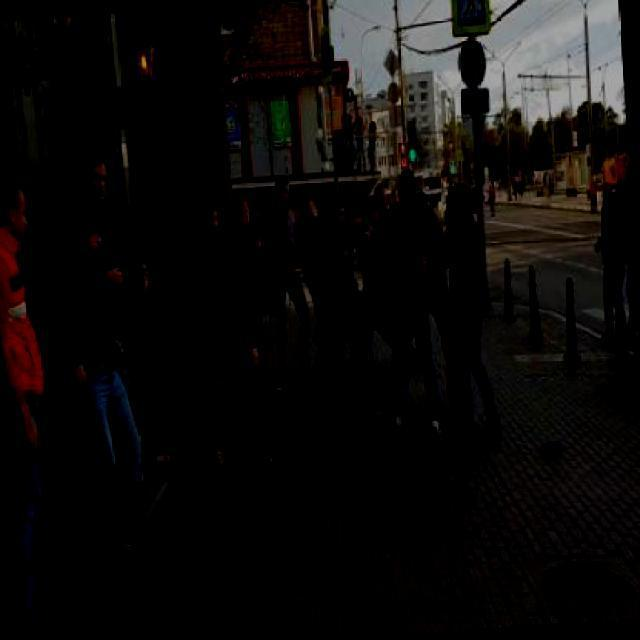fight: (292, 187, 446, 430)
non-fight: (46, 191, 151, 574), (0, 164, 69, 638), (187, 181, 286, 487)
